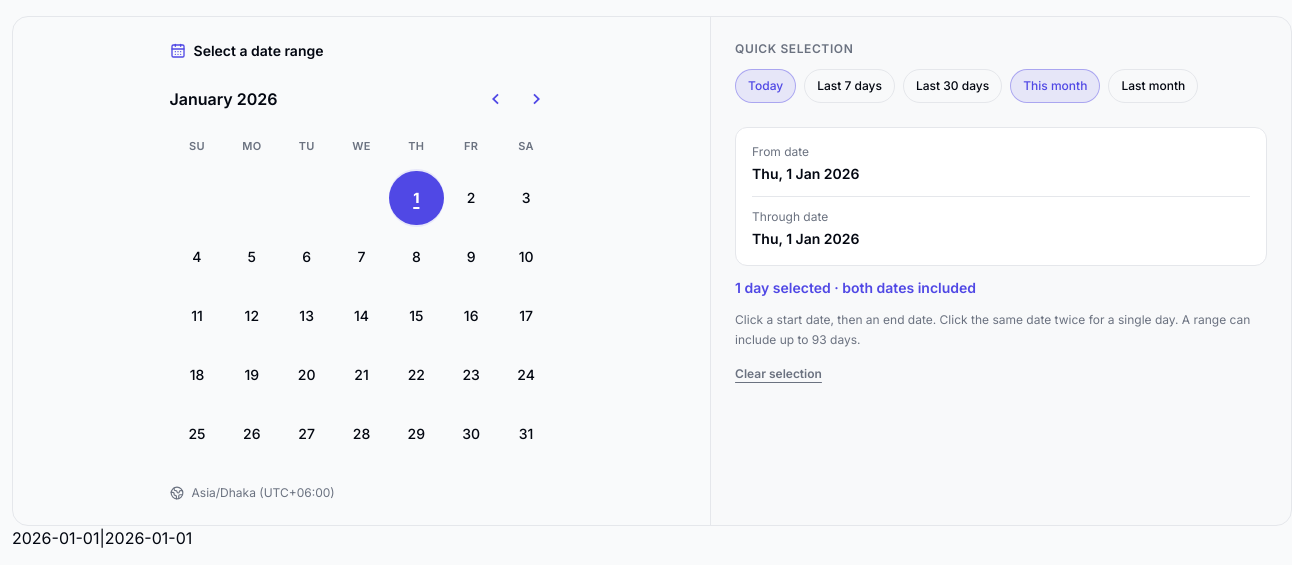
Test: PlacementDateRangePicker › allows 93 inclusive days and disables a 94th day
Click the button named "January 1st, 2026": (416,198) [389, 170, 444, 225]
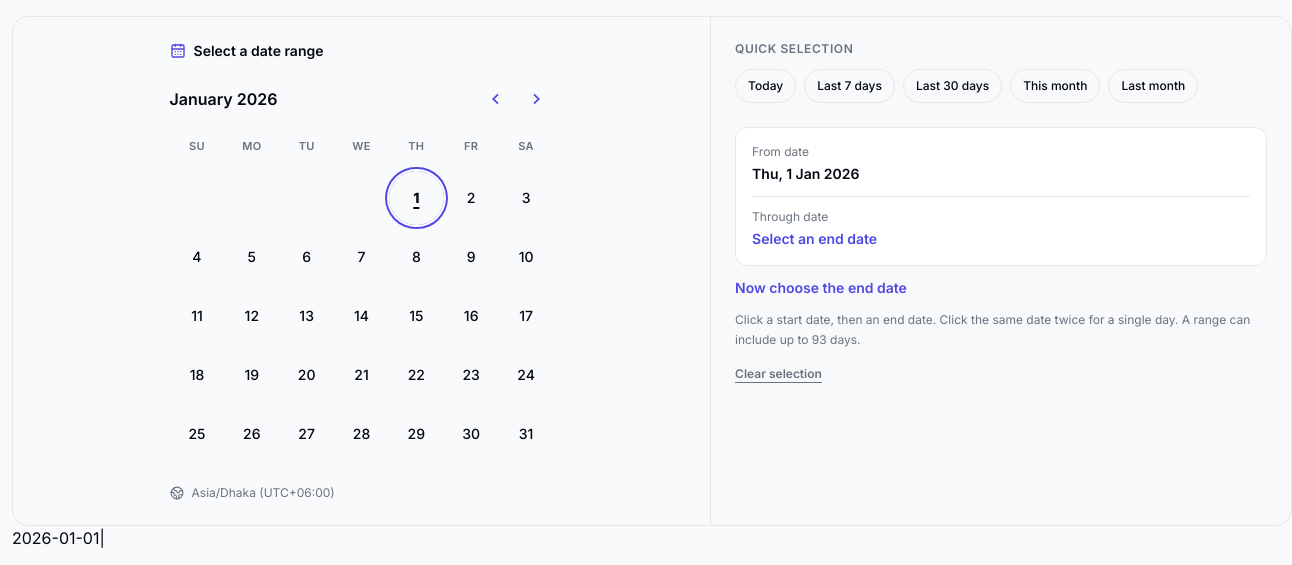
Click the button named "Go to the next month": (536,99) [518, 81, 554, 117]
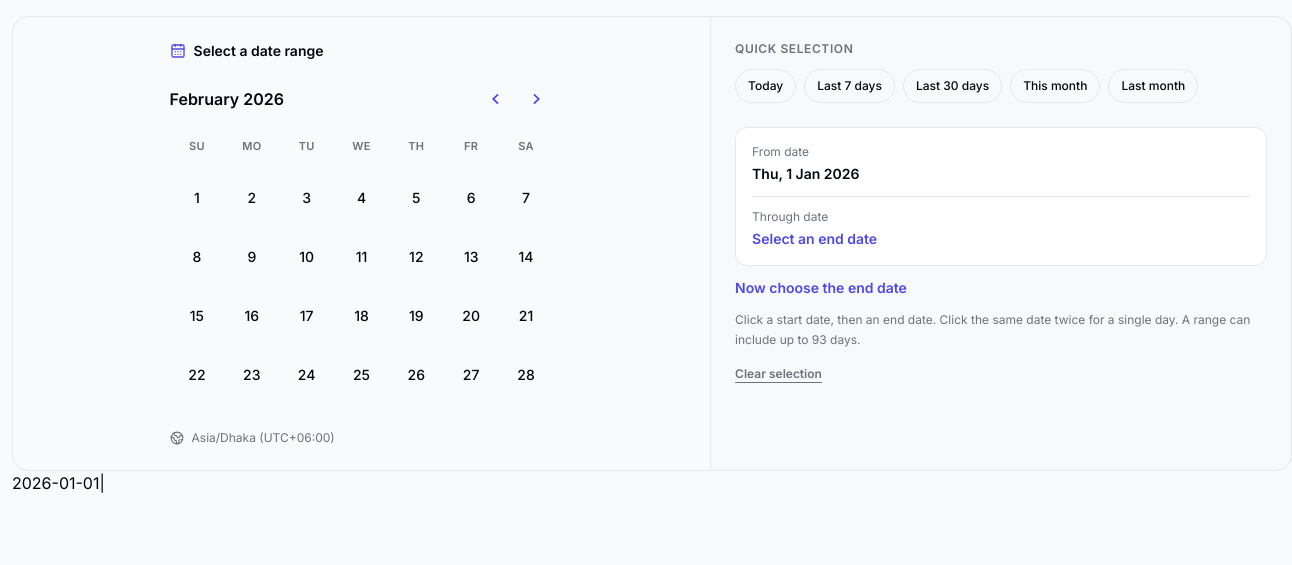
Click the button named "Go to the next month": (536,99) [518, 81, 554, 117]
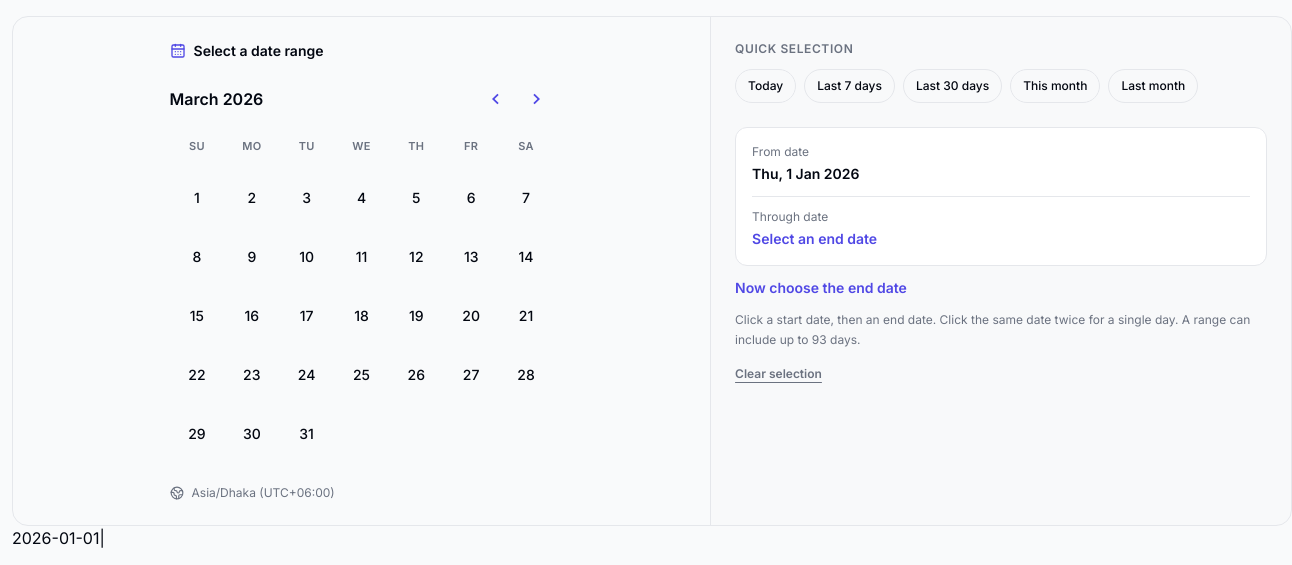
Click the button named "Go to the next month": (536,99) [518, 81, 554, 117]
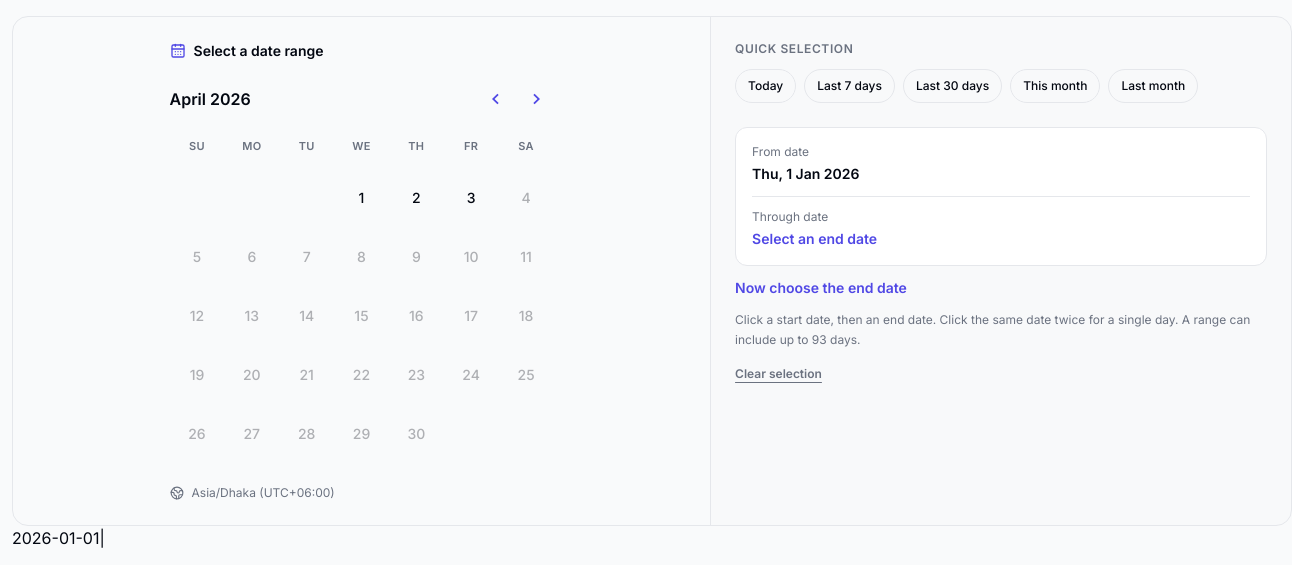
Now the button named "April 4th, 2026" is disabled, box [499, 170, 554, 225]
Click the button named "April 3rd, 2026": (471,198) [444, 170, 499, 225]
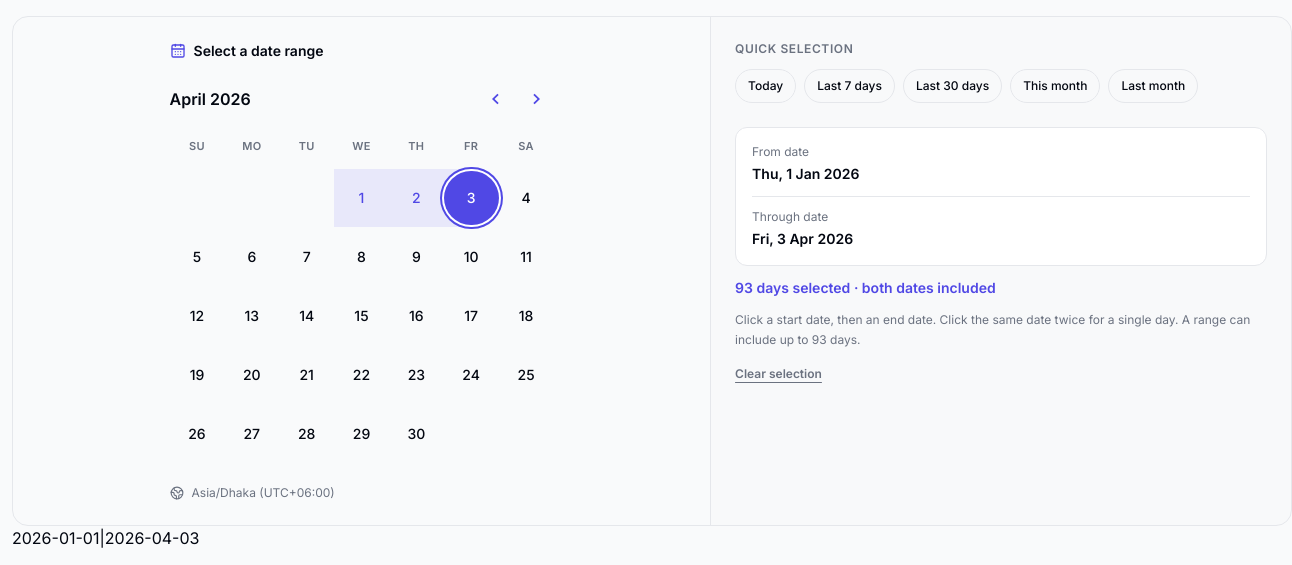
Now the text "93 days selected · both dates included" is shown, box [735, 279, 996, 296]
